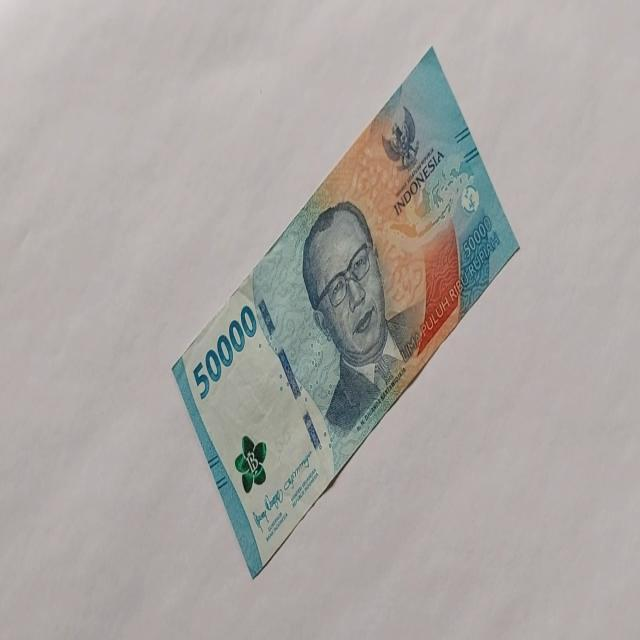lima puluh ribu rupiah: (170, 44, 520, 578), (300, 198, 412, 439), (191, 303, 257, 401)
